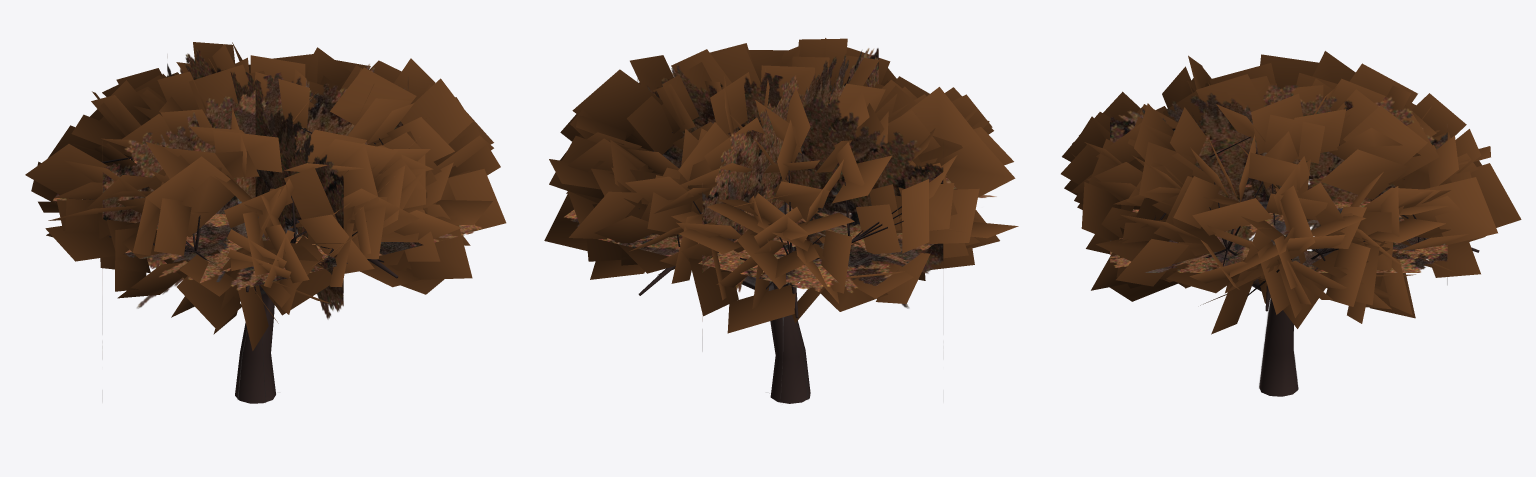
Rendered from veg.tree.sakura.glb.
The picture shows the model from 3 angles, left to right: view 1: azimuth 30°, elevation 25°; view 2: azimuth 150°, elevation 25°; view 3: azimuth 270°, elevation 25°; orthographic projection. The views are drawn at different scales.
Parts seen in each view (by area): view 1: LOD0, IMP; view 2: LOD0, IMP; view 3: LOD0, IMP.
Boxes of the visible parts, x1,y1,x2,y2 form: LOD0: (25, 42, 506, 403); IMP: (52, 47, 481, 402); LOD0: (544, 38, 1018, 403); IMP: (564, 48, 996, 402); LOD0: (1061, 51, 1521, 396); IMP: (1110, 85, 1447, 388).
Size of what is drawn, in the model's own units: 10.51 by 7.5 by 10.24.
3 materials, 1 textured.
